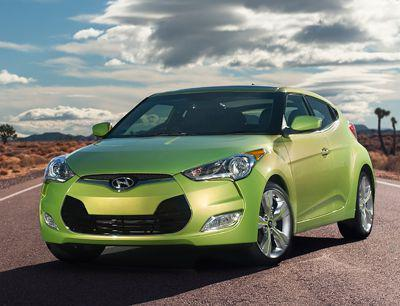Car: (20, 66, 382, 299)
